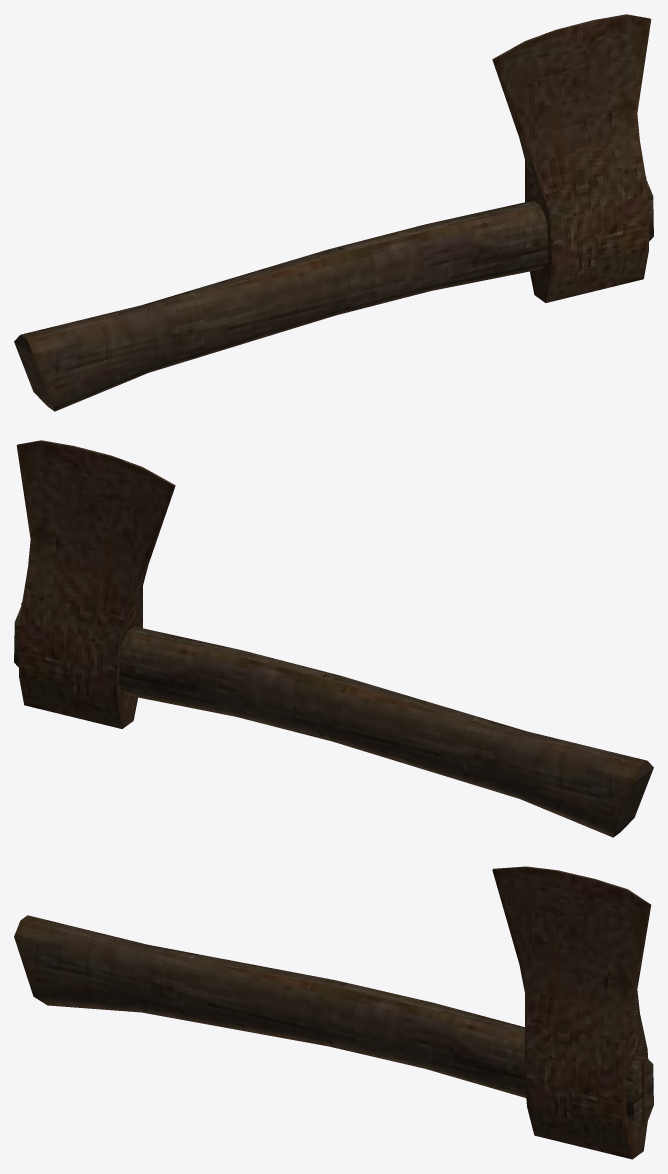
File: shop-item-1021.glb
3 views of the same model, one above another, from view 1: azimuth 30°, elevation 25°; view 2: azimuth 150°, elevation 25°; view 3: azimuth 330°, elevation 25° (orthographic).
Parts seen in each view (by area): view 1: axe_mx_1_1; view 2: axe_mx_1_1; view 3: axe_mx_1_1.
Boxes of the visible parts, x1,y1,x2,y2 form: axe_mx_1_1: (14,14,653,411); axe_mx_1_1: (14,440,653,837); axe_mx_1_1: (14,866,653,1159).
Size of the model in its own units: 0.6527 by 0.2641 by 0.048.
1 material, 1 textured.
